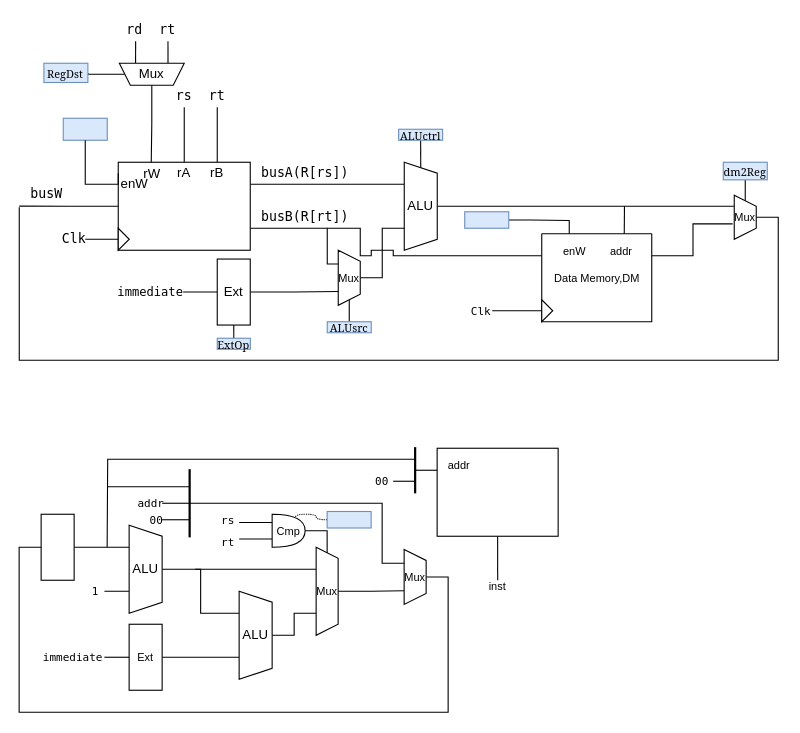
This 800x733 diagram has some shape labels left out. The box of each missing label's shape, as (x1, y1, x2, y2) in pixels:
dmWr: (464, 211, 509, 228)
Inst Memory IM: (436, 447, 558, 536)
nPc_sel: (326, 510, 371, 528)
PC: (40, 513, 74, 580)
Reg Pile: (117, 161, 250, 250)
RegWr: (62, 117, 107, 140)
